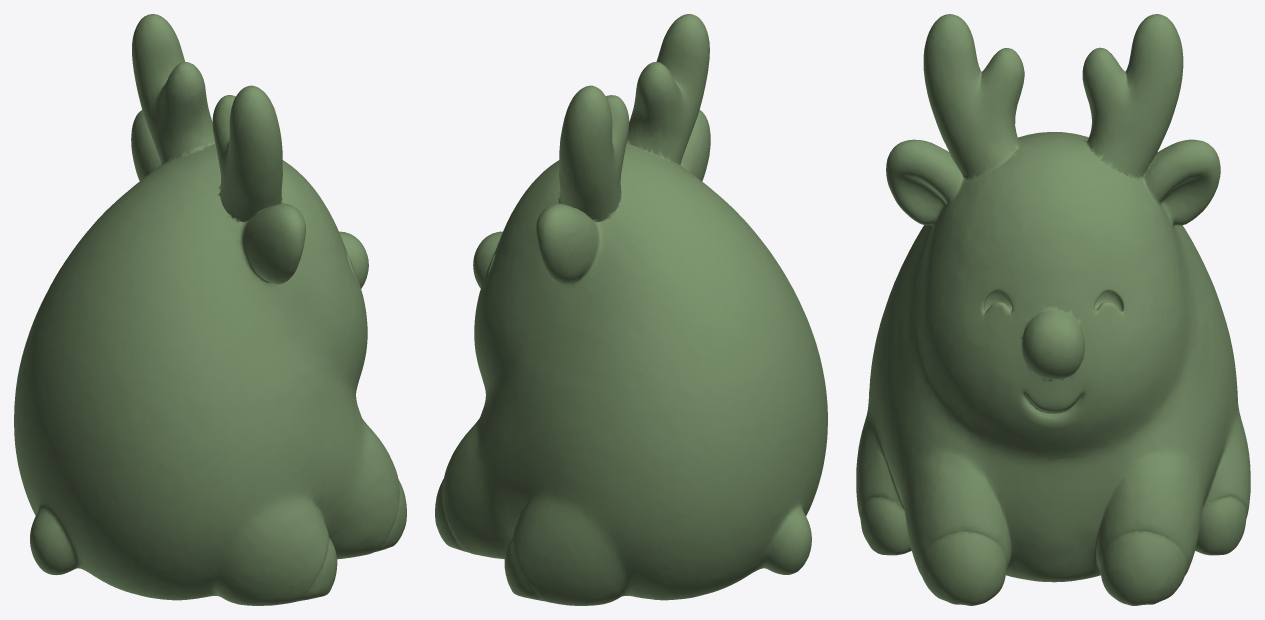
Rendered from reindeer.glb.
3 renders of one model, left to right at view 1: azimuth 30°, elevation 25°; view 2: azimuth 150°, elevation 25°; view 3: azimuth 270°, elevation 25°, orthographic. The views are drawn at different scales.
Visible parts, largest first — view 1: tripo_printable_source; view 2: tripo_printable_source; view 3: tripo_printable_source.
Boxes of the visible parts, x1,y1,x2,y2 form: tripo_printable_source: (14, 14, 406, 605); tripo_printable_source: (435, 14, 827, 605); tripo_printable_source: (856, 14, 1250, 605).
Bounding box in the file's own units: 70 × 100 × 68.85.
